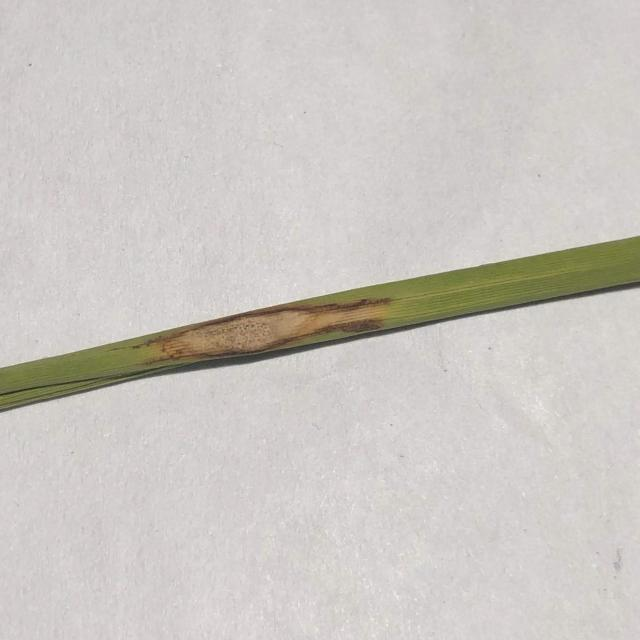Blast: (174, 330, 252, 350), (328, 300, 371, 330), (252, 318, 291, 343), (295, 306, 322, 335)
